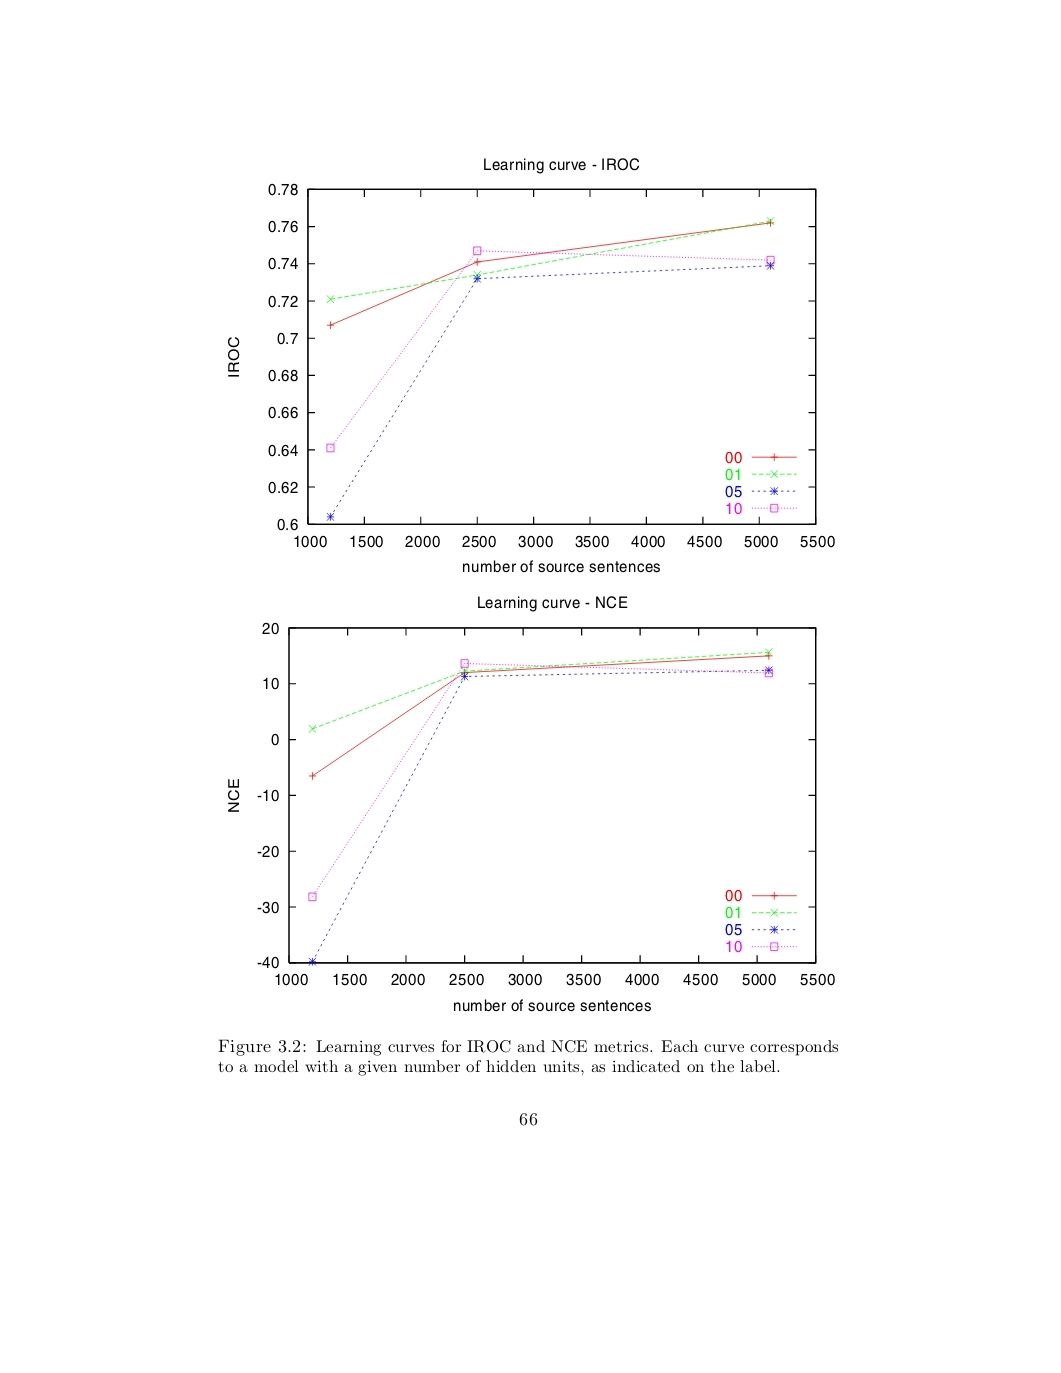figure: (228, 183, 834, 572), (228, 622, 834, 1011)
